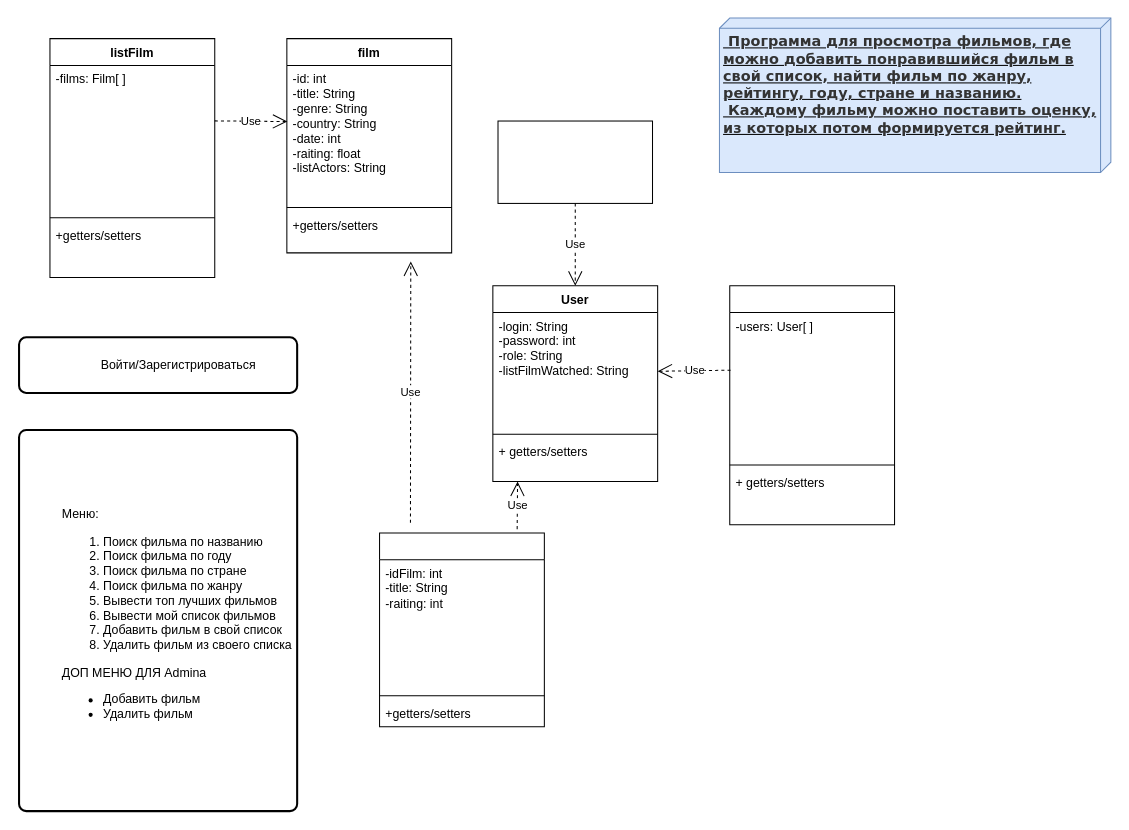
The diagram is 1129 pixels wide and 830 high, and some of its shapes have lost their labels. Each missing label, with the box of its shape:
listFilmWatched: (379, 532, 544, 727)
listUser: (729, 285, 895, 525)
userRole Admin Common: (497, 120, 653, 203)
